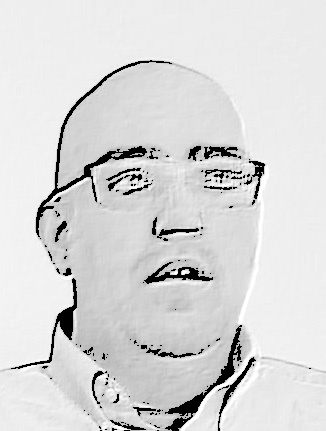nose_M_C: (150, 176, 208, 260)
